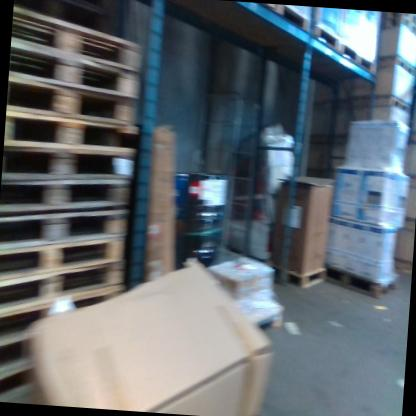pallet: (0, 274, 126, 359), (0, 251, 126, 330), (9, 7, 145, 76), (0, 224, 126, 292), (0, 168, 132, 230), (8, 40, 143, 98), (0, 200, 130, 256), (1, 137, 135, 190), (6, 75, 140, 128), (4, 117, 139, 153), (323, 263, 401, 302), (268, 263, 327, 292), (0, 328, 32, 381), (337, 97, 380, 136), (0, 363, 32, 404), (375, 52, 416, 80), (374, 95, 413, 116)
